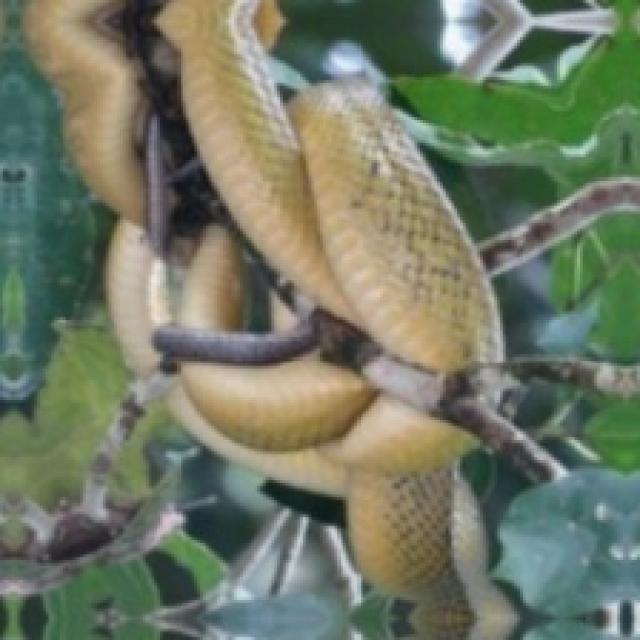red-tailed green ratsnake: (26, 0, 637, 637)
